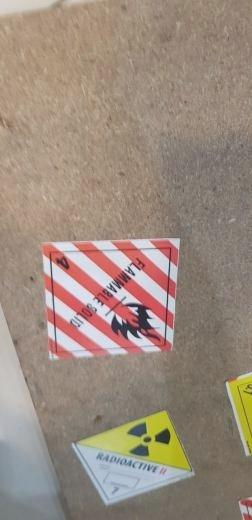flammable-solid: (37, 239, 180, 359)
radioactive: (72, 412, 195, 506)
